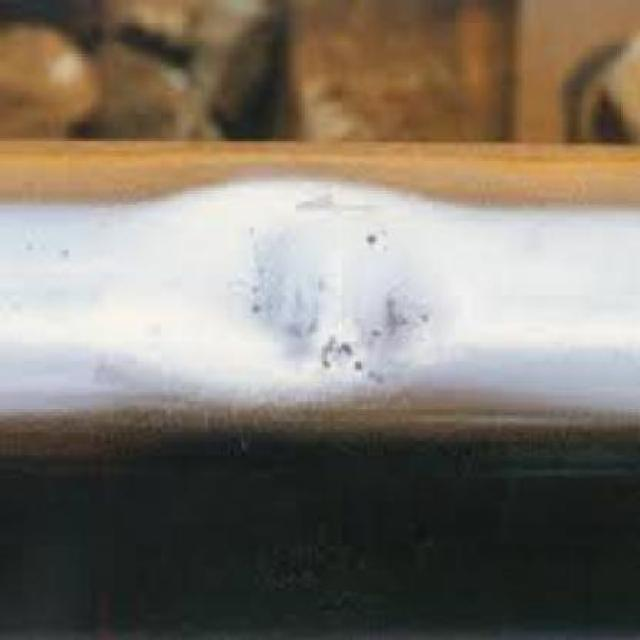defective: (108, 150, 514, 508)
